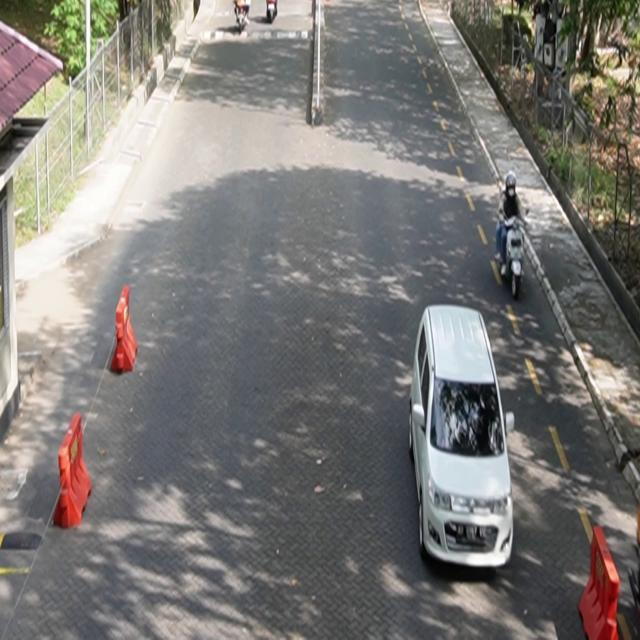car: (409, 303, 516, 571)
